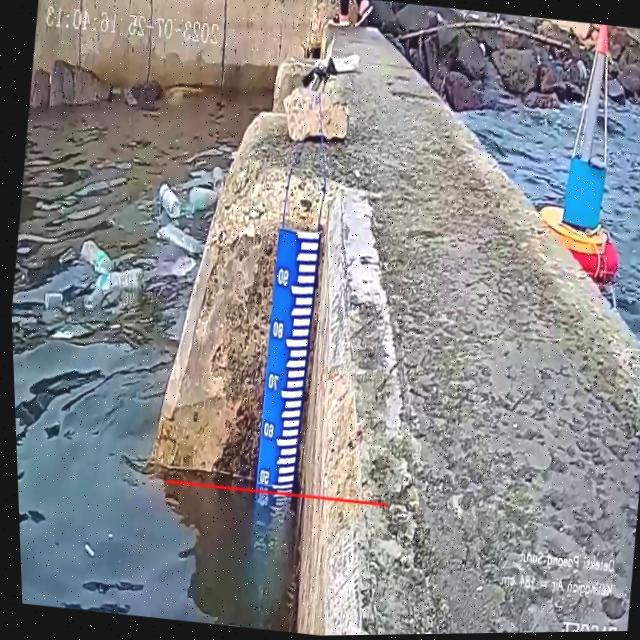water-meter: (230, 213, 336, 543)
